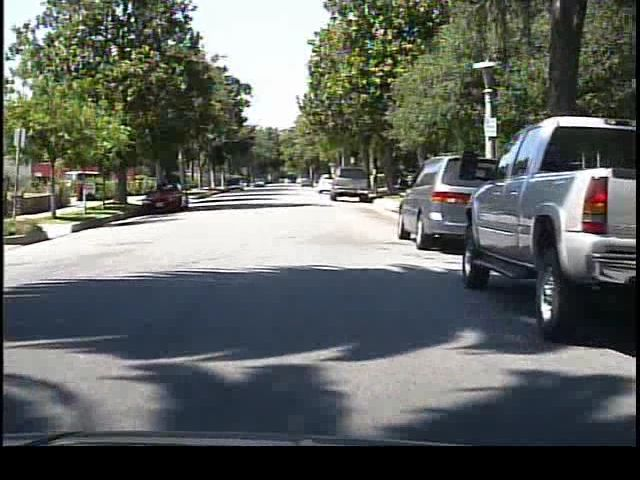car: (465, 104, 635, 331), (391, 153, 464, 253), (330, 166, 373, 205), (143, 179, 189, 213)
